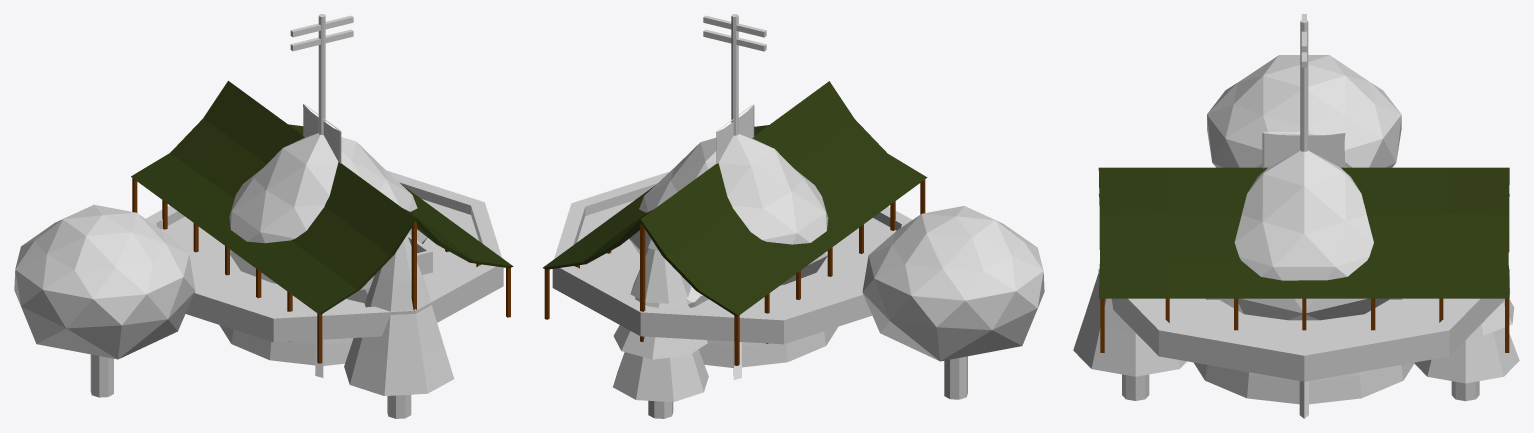
Rendered from Props.fbx.
3 views of the same model, side by side, from view 1: azimuth 30°, elevation 25°; view 2: azimuth 150°, elevation 25°; view 3: azimuth 270°, elevation 25° (orthographic). The views are drawn at different scales.
Parts seen in each view (by area): view 1: Tent, Tree.001, Fountain, Tree, TreePine, Romanian Haystack, Telephone Pole, Flag, ZisBox; view 2: Tent, Tree.001, Fountain, Tree, TreePine.002, Romanian Haystack, Telephone Pole, Flag; view 3: Tent, Fountain, Tree, Tree.001, TreePine, Romanian Haystack, TreePine.002, Flag, Telephone Pole.
Boxes of the visible parts, box(x1,y1,x2,y2) form: Tent: box(131, 80, 513, 363); Tree.001: box(14, 204, 195, 397); Fountain: box(146, 170, 503, 342); Tree: box(229, 133, 427, 283); TreePine: box(344, 235, 454, 418); Romanian Haystack: box(219, 325, 353, 377); Telephone Pole: box(290, 14, 353, 134); Flag: box(303, 104, 339, 162); ZisBox: box(359, 233, 432, 290); Tent: box(543, 81, 927, 365); Tree.001: box(862, 206, 1044, 399); Fountain: box(552, 171, 911, 344); Tree: box(629, 134, 828, 285); TreePine.002: box(613, 236, 708, 418); Romanian Haystack: box(698, 327, 837, 379); Telephone Pole: box(703, 14, 766, 135); Flag: box(716, 105, 753, 163); Tent: box(1098, 167, 1509, 352); Fountain: box(1098, 268, 1509, 381); Tree: box(1219, 150, 1389, 320); Tree.001: box(1207, 55, 1401, 167); TreePine: box(1073, 272, 1186, 400); Romanian Haystack: box(1193, 362, 1414, 418); TreePine.002: box(1414, 299, 1519, 401); Flag: box(1264, 133, 1345, 167); Telephone Pole: box(1300, 14, 1308, 151).
Bounding box in the file's own units: 1425 × 1004 × 1086.
